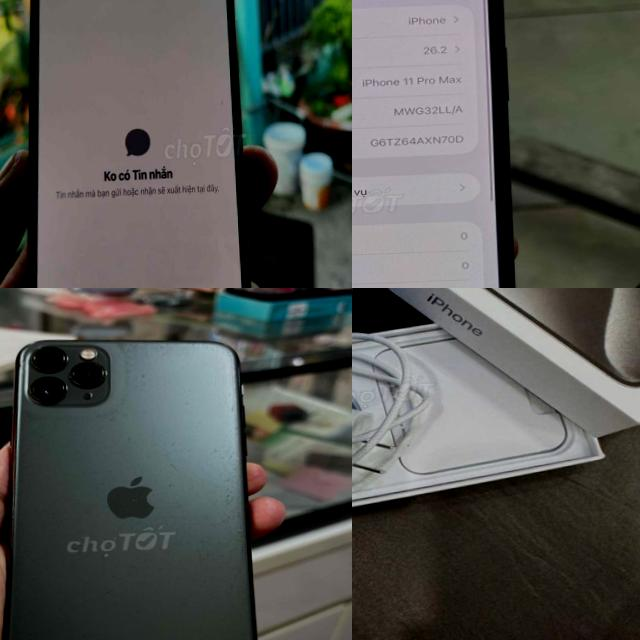gen_11: (0, 326, 262, 640), (352, 0, 521, 288)
gen_12_13: (9, 0, 263, 288)
